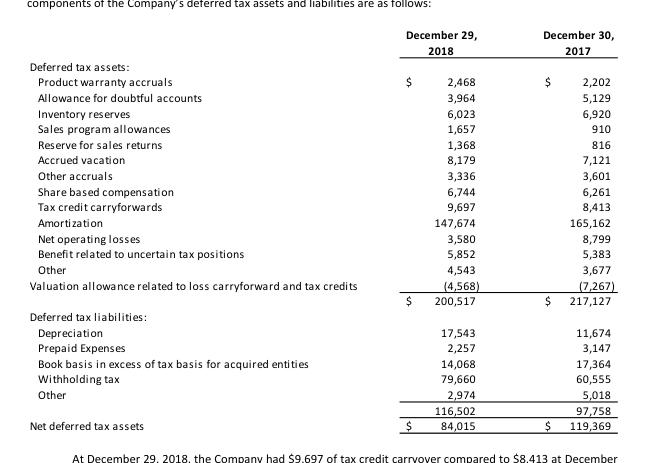table: (28, 29, 613, 432)
table column: (28, 29, 380, 432), (380, 29, 510, 432), (510, 29, 613, 432)
table column header: (28, 29, 613, 58)
table projected row header: (28, 58, 613, 74), (28, 309, 613, 324)
table row: (28, 29, 613, 58), (28, 58, 613, 74), (28, 74, 613, 90), (28, 105, 613, 121), (28, 121, 613, 137), (28, 152, 613, 168), (28, 183, 613, 199), (28, 199, 613, 215), (28, 230, 613, 246), (28, 246, 613, 262), (28, 277, 613, 293), (28, 293, 613, 309), (28, 324, 613, 340), (28, 340, 613, 356), (28, 371, 613, 387), (28, 402, 613, 418), (28, 90, 613, 105), (28, 137, 613, 152), (28, 168, 613, 183), (28, 215, 613, 230), (28, 262, 613, 277), (28, 309, 613, 324), (28, 356, 613, 371), (28, 387, 613, 402), (28, 418, 613, 432)
